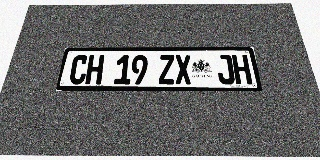1: (114, 55, 132, 84)
9: (131, 55, 148, 84)
C: (68, 55, 89, 84)
H: (231, 55, 252, 84), (85, 55, 104, 84)
J: (215, 55, 235, 84)
X: (175, 55, 192, 84)
Z: (159, 55, 175, 84)
